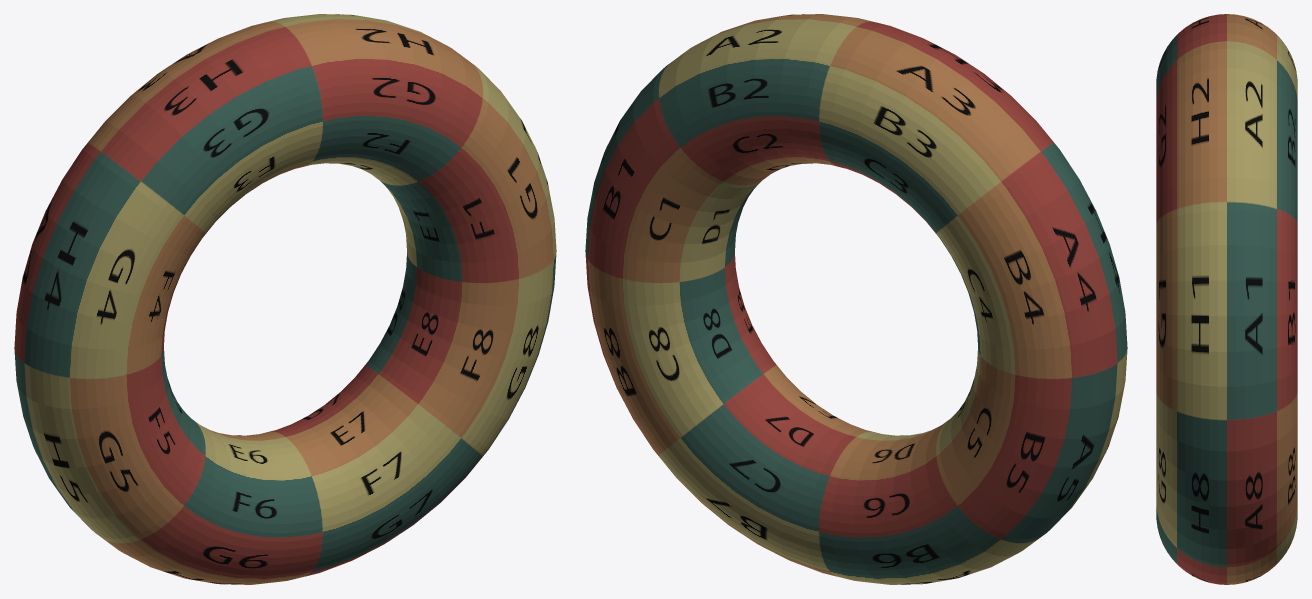
The model's file is texture_torus_R22_r23.glb.
3 views of the same model, side by side, from view 1: azimuth 30°, elevation 25°; view 2: azimuth 150°, elevation 25°; view 3: azimuth 270°, elevation 25° (orthographic). The views are drawn at different scales.
Visible parts, largest first — view 1: world; view 2: world; view 3: world.
Boxes of the visible parts, box(x1,y1,x2,y2) form: world: box(14, 14, 556, 584); world: box(585, 14, 1127, 584); world: box(1156, 14, 1297, 584).
Bounding box in the file's own units: 32.8 × 32.74 × 8.12.
1 material, 1 textured.
